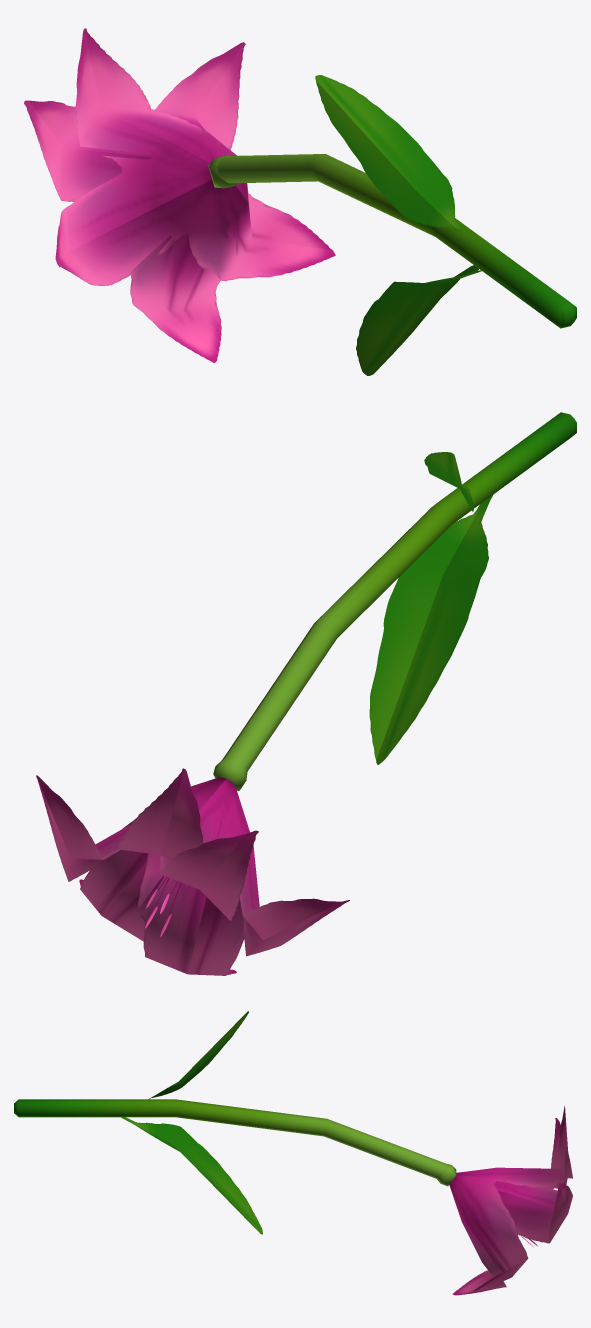
The model's file is SM_Lilly_Pink_One.fbx.
3 renders of one model, top to bottom at view 1: azimuth 30°, elevation 25°; view 2: azimuth 150°, elevation 25°; view 3: azimuth 270°, elevation 25°, orthographic. The views are drawn at different scales.
Visible parts, largest first — view 1: Lilly_Pink_One; view 2: Lilly_Pink_One; view 3: Lilly_Pink_One.
Part boxes in pixels (x1,y1,x2,y2): Lilly_Pink_One: (24,28,576,375); Lilly_Pink_One: (36,412,576,975); Lilly_Pink_One: (14,1011,572,1295).
Size of the model in its own units: 55.82 by 69.78 by 131.
